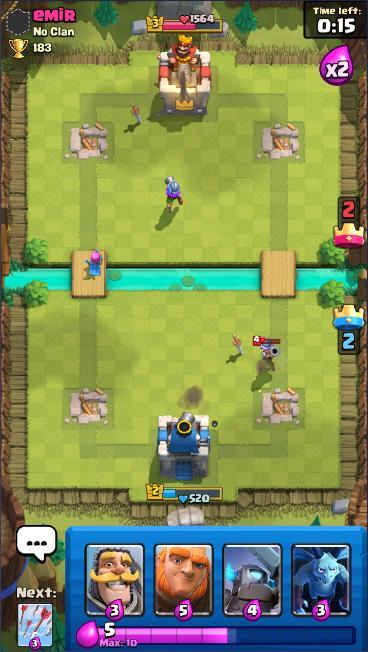EArcher: (83, 247, 105, 278)
EGolem: (161, 174, 186, 211)
OBigPekka: (251, 334, 284, 363)
